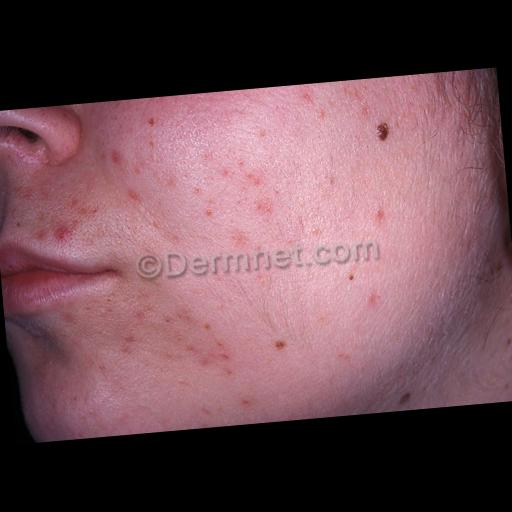Skin_Lesion: (248, 198, 276, 219), (68, 193, 92, 217), (372, 119, 392, 146), (54, 224, 75, 247), (118, 335, 139, 356), (230, 236, 250, 258), (395, 390, 415, 411), (178, 377, 196, 400), (182, 338, 202, 358), (364, 290, 383, 310), (132, 302, 150, 322), (165, 231, 184, 249), (242, 171, 260, 189), (298, 88, 314, 106), (270, 338, 288, 354), (237, 398, 255, 414), (32, 227, 48, 245), (220, 164, 236, 182), (344, 270, 357, 288), (337, 350, 353, 364), (161, 309, 173, 327), (219, 350, 234, 364), (126, 188, 141, 202), (203, 352, 213, 372), (372, 208, 386, 222), (108, 152, 122, 166), (315, 108, 327, 124), (224, 367, 236, 380), (315, 314, 327, 327), (200, 208, 214, 218), (202, 318, 210, 335), (258, 129, 269, 141), (146, 120, 158, 128), (214, 341, 224, 350), (504, 336, 512, 345), (150, 218, 158, 226)
